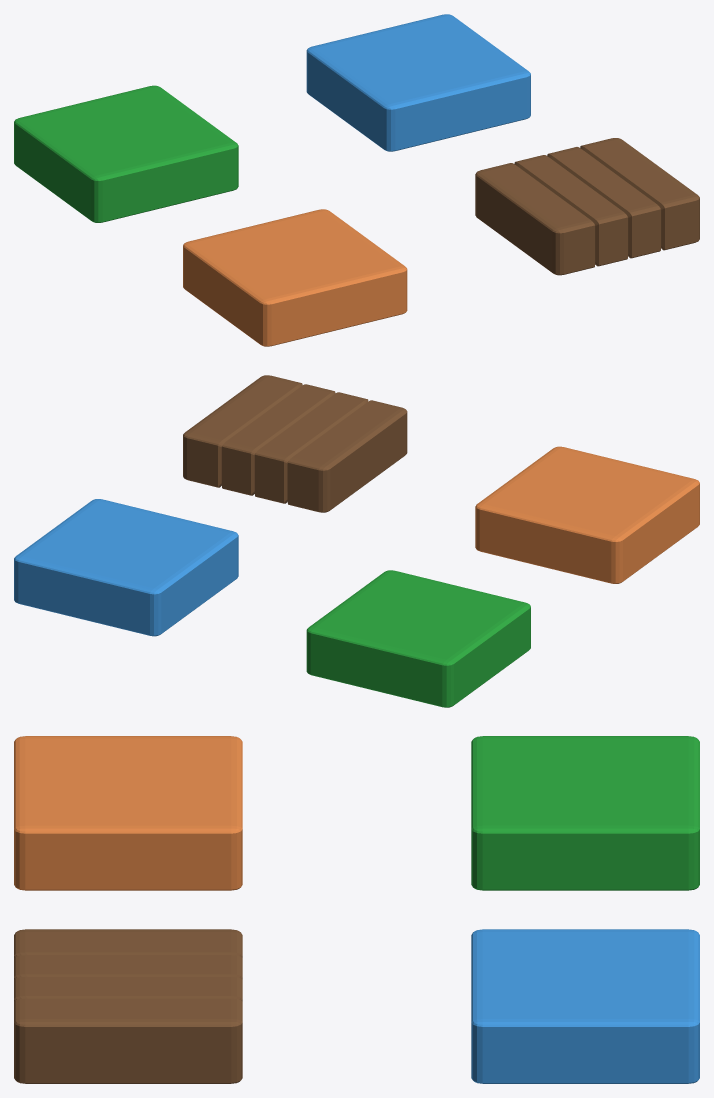
File: TileSet_01.glb
3 views of the same model, one above another, from view 1: azimuth 30°, elevation 25°; view 2: azimuth 150°, elevation 25°; view 3: azimuth 270°, elevation 25° (orthographic). The views are drawn at different scales.
Parts seen in each view (by area): view 1: Grass.col, Water.col, Dirt.col, Bridge_01.col; view 2: Water.col, Dirt.col, Grass.col, Bridge_01.col; view 3: Grass.col, Water.col, Dirt.col, Bridge_01.col.
Part boxes in pixels (x1,y1,x2,y2): Grass.col: (14, 85, 238, 222); Water.col: (306, 14, 530, 151); Dirt.col: (183, 209, 407, 346); Bridge_01.col: (475, 138, 699, 275); Water.col: (14, 499, 238, 636); Dirt.col: (475, 446, 699, 583); Grass.col: (306, 570, 530, 707); Bridge_01.col: (183, 375, 407, 512); Grass.col: (471, 736, 699, 890); Water.col: (471, 929, 699, 1083); Dirt.col: (14, 736, 242, 890); Bridge_01.col: (14, 929, 242, 1083).
Bounding box in the file's own units: 3 × 0.298 × 3.
